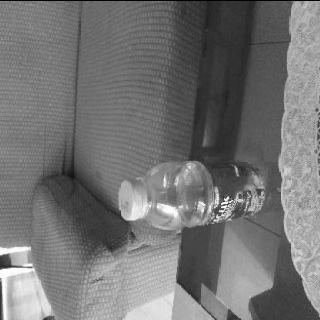plastic_bottles: (117, 155, 271, 230)
